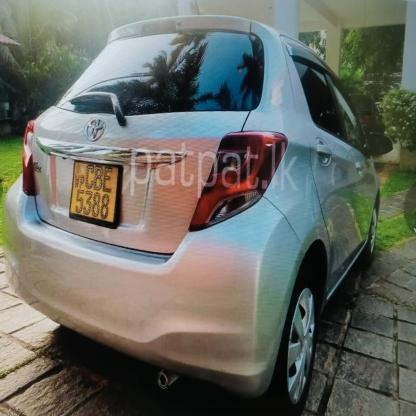car back: (1, 15, 383, 407)
number plate: (69, 156, 116, 221)
